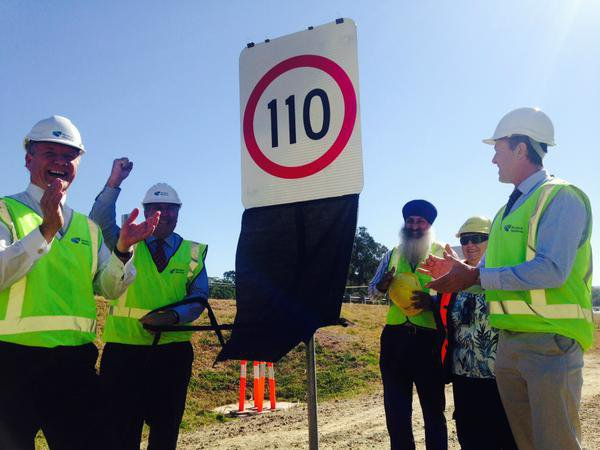Speed_limit_110km: (242, 55, 358, 179)
